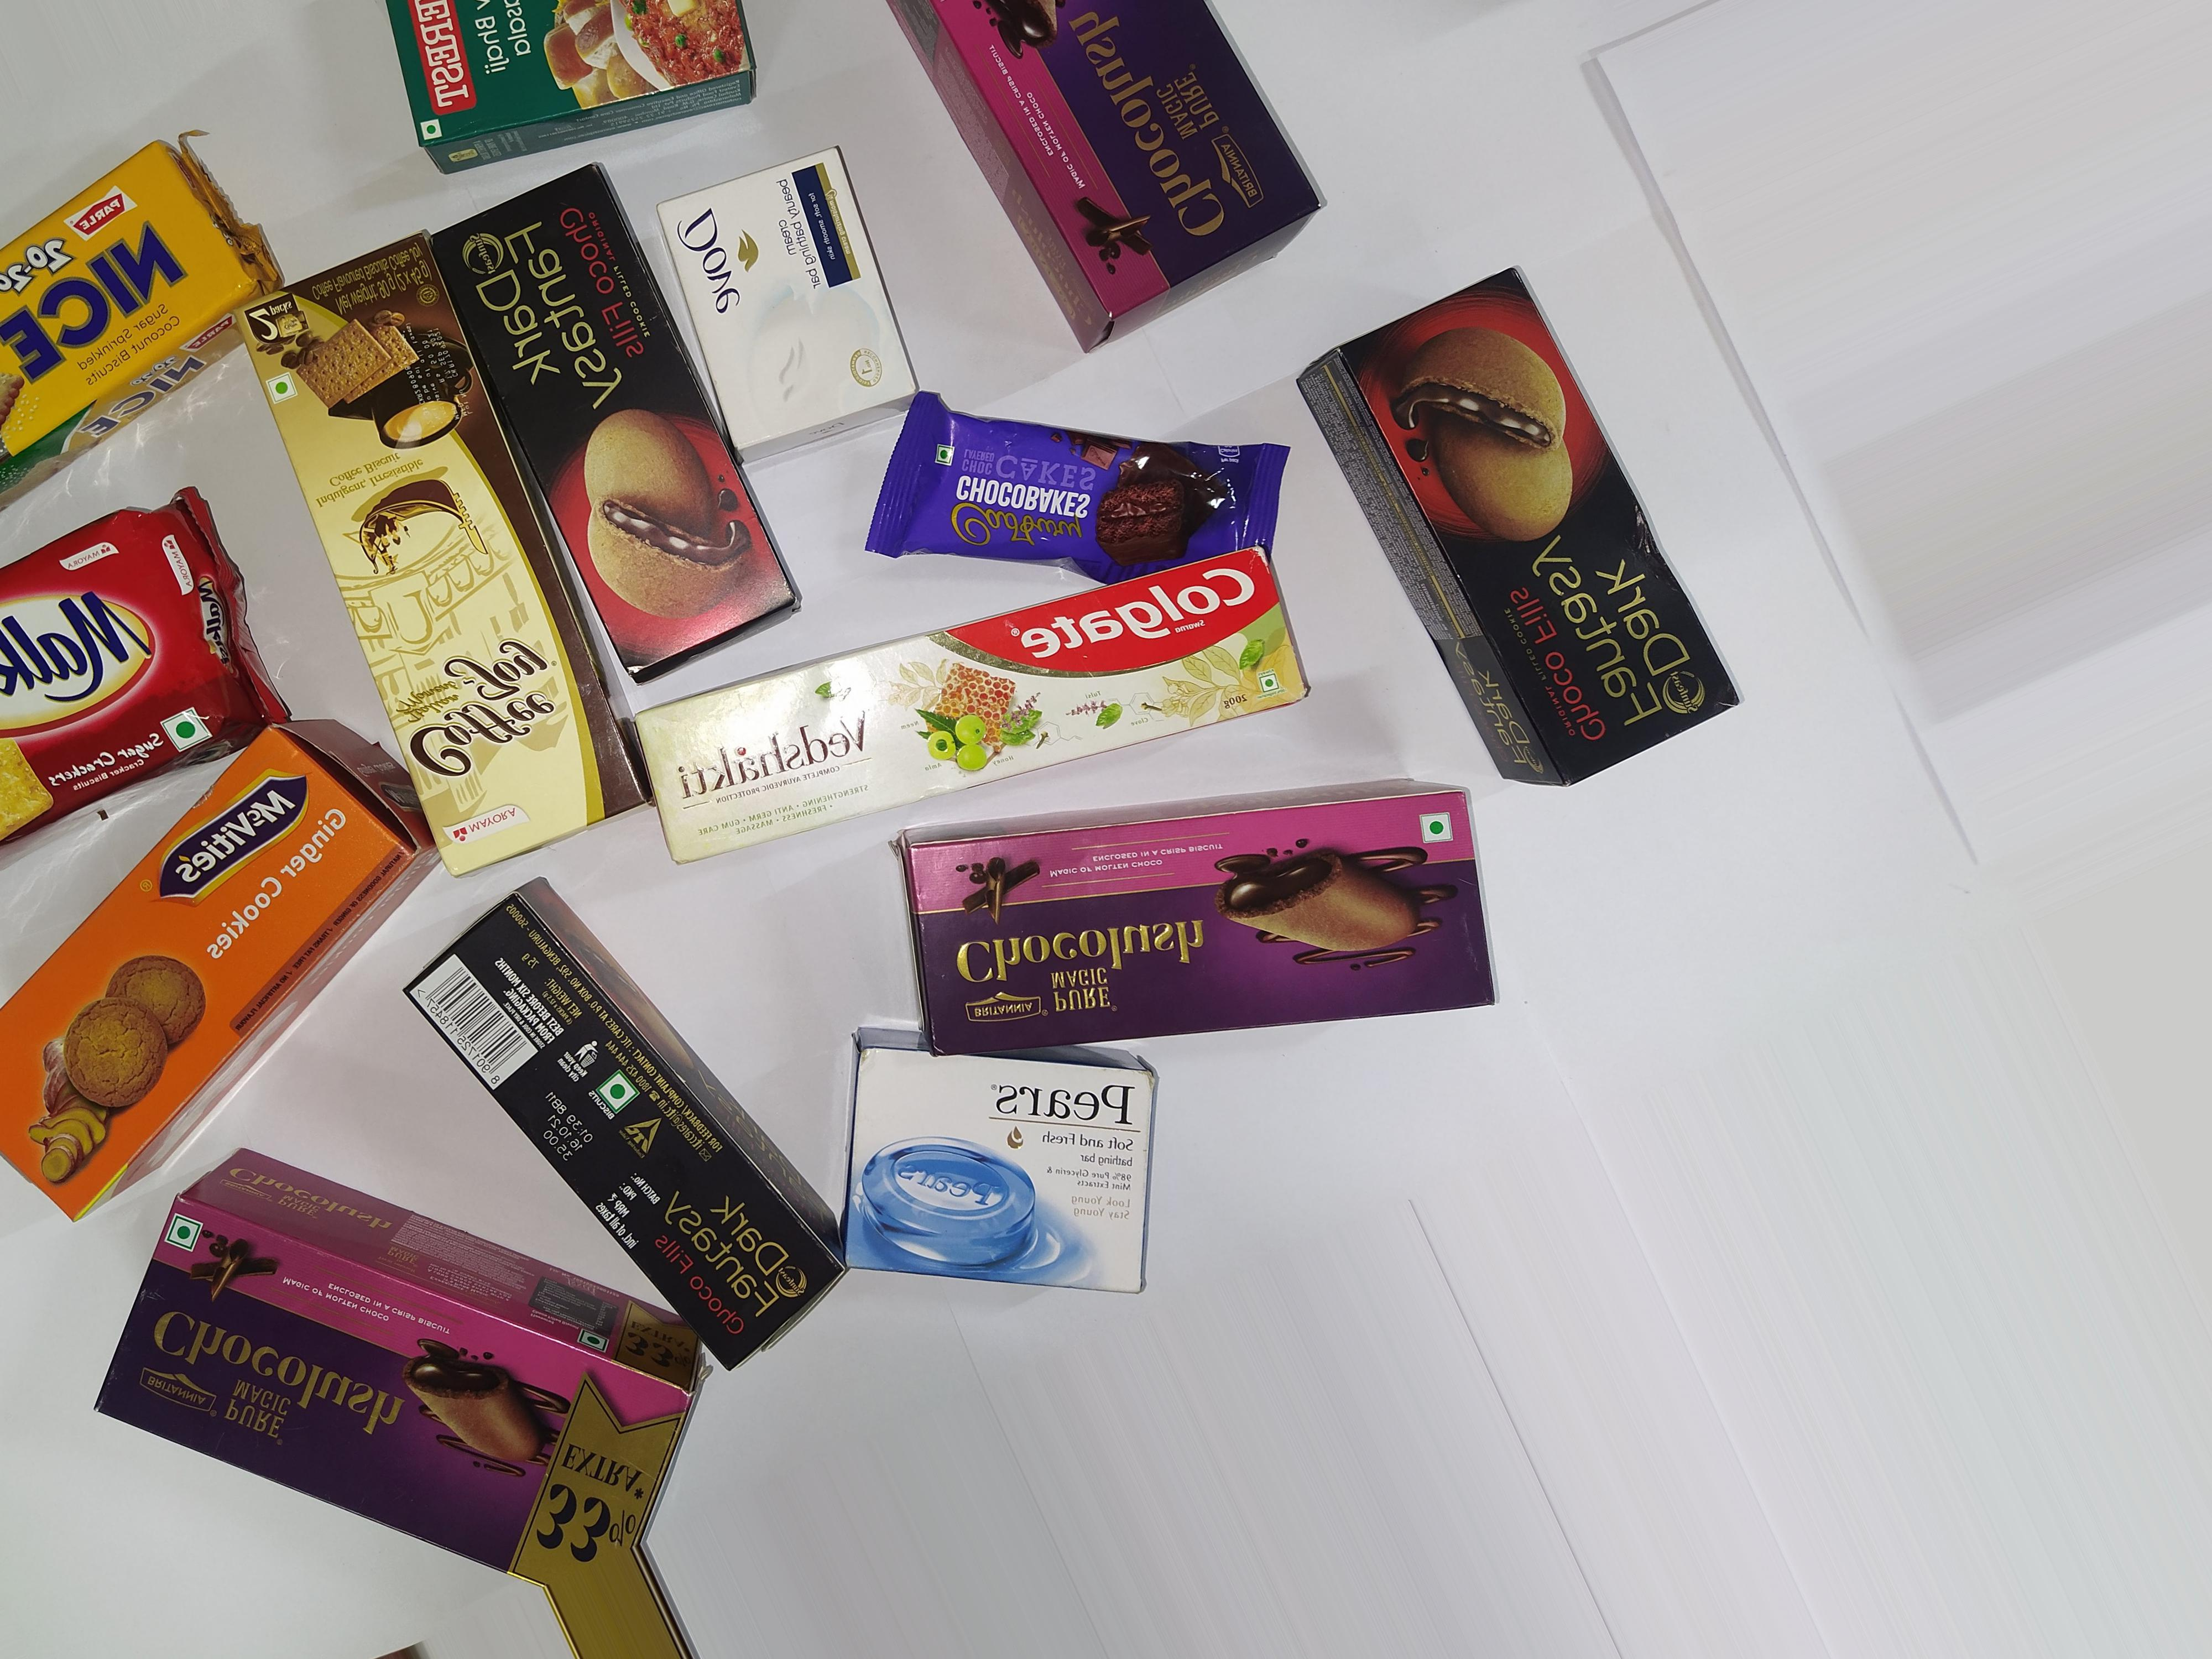Bar_code: (408, 950, 543, 1108)
Item: (92, 1157, 784, 1601), (1303, 260, 1810, 781), (228, 239, 620, 894), (413, 889, 880, 1382), (876, 796, 1609, 1075), (5, 721, 421, 1201), (869, 10, 1388, 390), (428, 185, 833, 664), (669, 537, 1366, 791), (838, 1012, 1191, 1310), (880, 371, 1312, 599), (3, 120, 270, 465), (658, 171, 913, 444)
